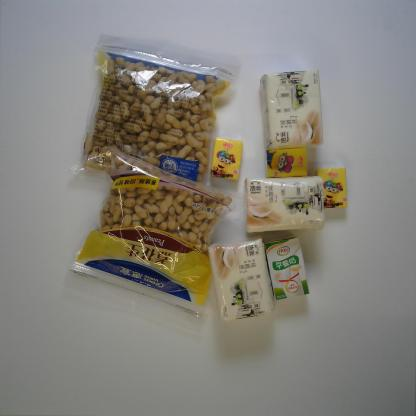Dried Food: (60, 146, 243, 328), (69, 33, 240, 193)
Milk: (265, 236, 309, 301)
Tissue: (208, 238, 274, 322), (260, 68, 323, 151), (244, 177, 326, 234), (209, 137, 243, 181), (266, 146, 308, 178), (317, 168, 347, 209)
